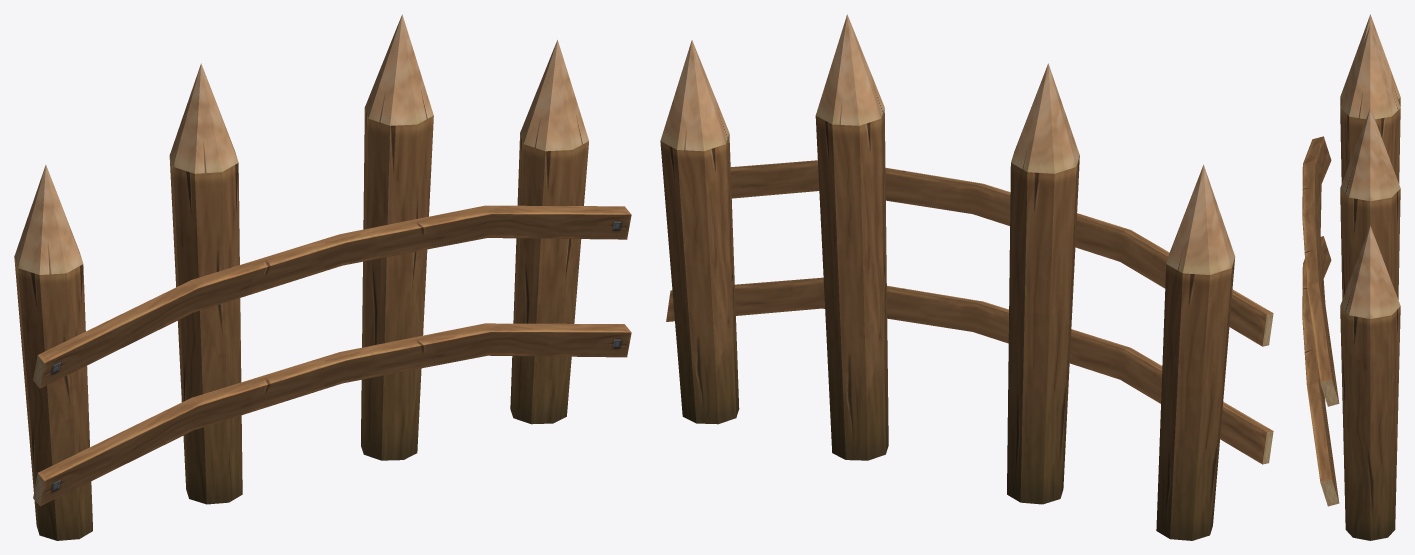
Rendered from wooden_fence_24.fbx.
3 renders of one model, left to right at view 1: azimuth 30°, elevation 25°; view 2: azimuth 150°, elevation 25°; view 3: azimuth 270°, elevation 25°, orthographic. The views are drawn at different scales.
Visible parts, largest first — view 1: wooden_fence_24:Mesh; view 2: wooden_fence_24:Mesh; view 3: wooden_fence_24:Mesh.
Part boxes in pixels (<box>): wooden_fence_24:Mesh: <box>14,14,631,540</box>; wooden_fence_24:Mesh: <box>660,14,1273,540</box>; wooden_fence_24:Mesh: <box>1302,14,1400,540</box>.
Size of the model in its own units: 7.25 by 5.07 by 1.23.
